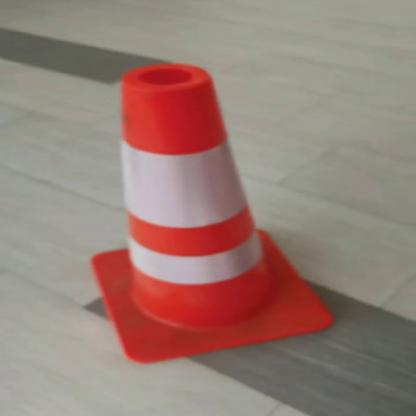cone: (58, 62, 365, 368)
